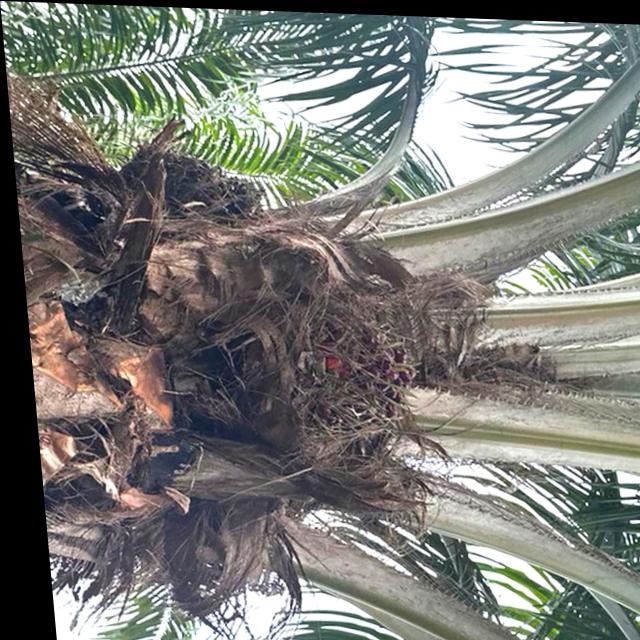ripe: (230, 288, 428, 462), (134, 145, 268, 230)
